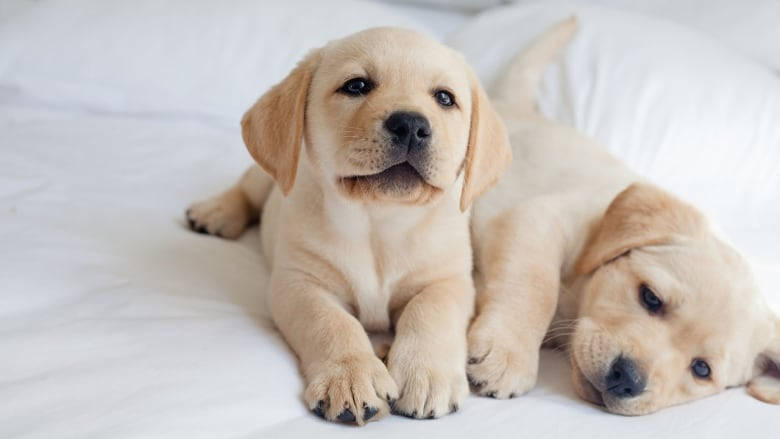pet: (227, 31, 495, 357)
